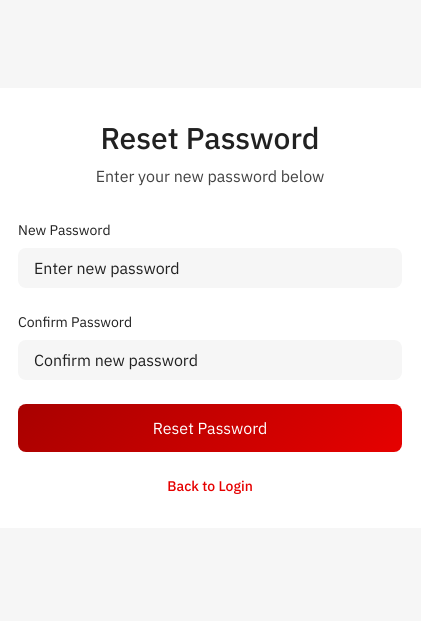
ResetPasswordPage › validates strong-enough reset password before submit
This screenshot has width=421, height=621.
In the password field with test id "new-password-input": (210, 268) [18,248,402,288], type "short"
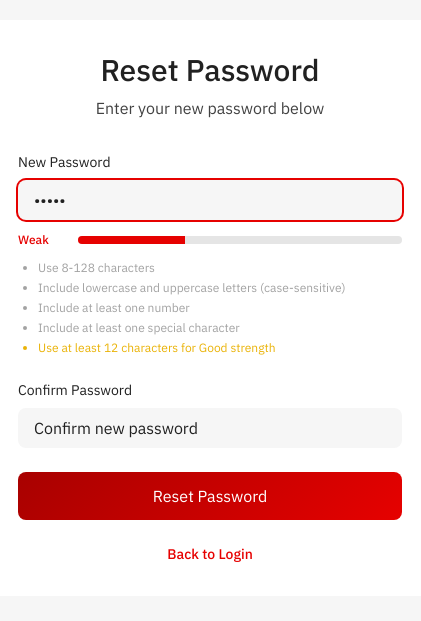
In the password field with test id "confirm-password-input": (210, 428) [18,408,402,448], type "short"
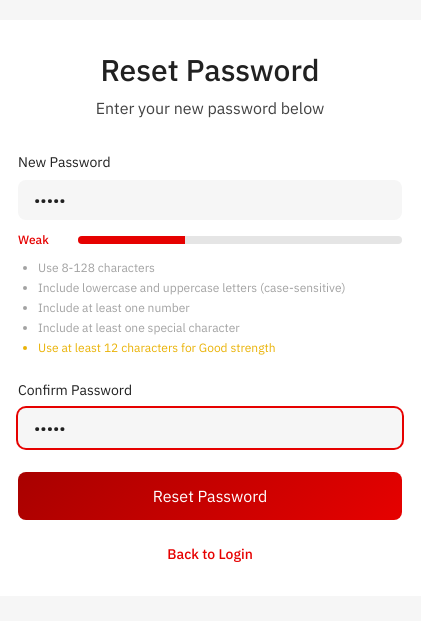
Click the button with test id "reset-password-submit-button": (210, 496) [18,472,402,520]
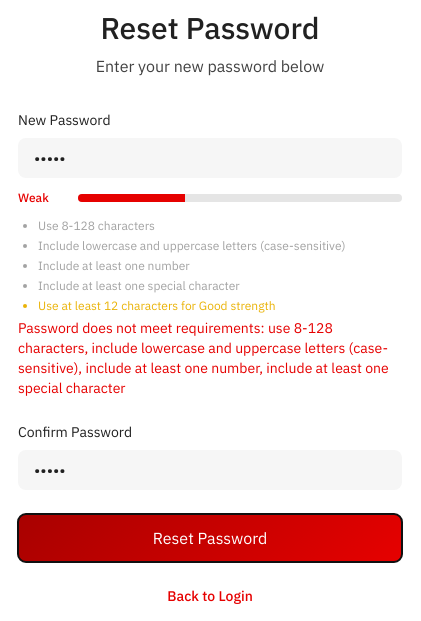
Now the text "Password does not meet requirements" is shown, box [18,319,389,397]
